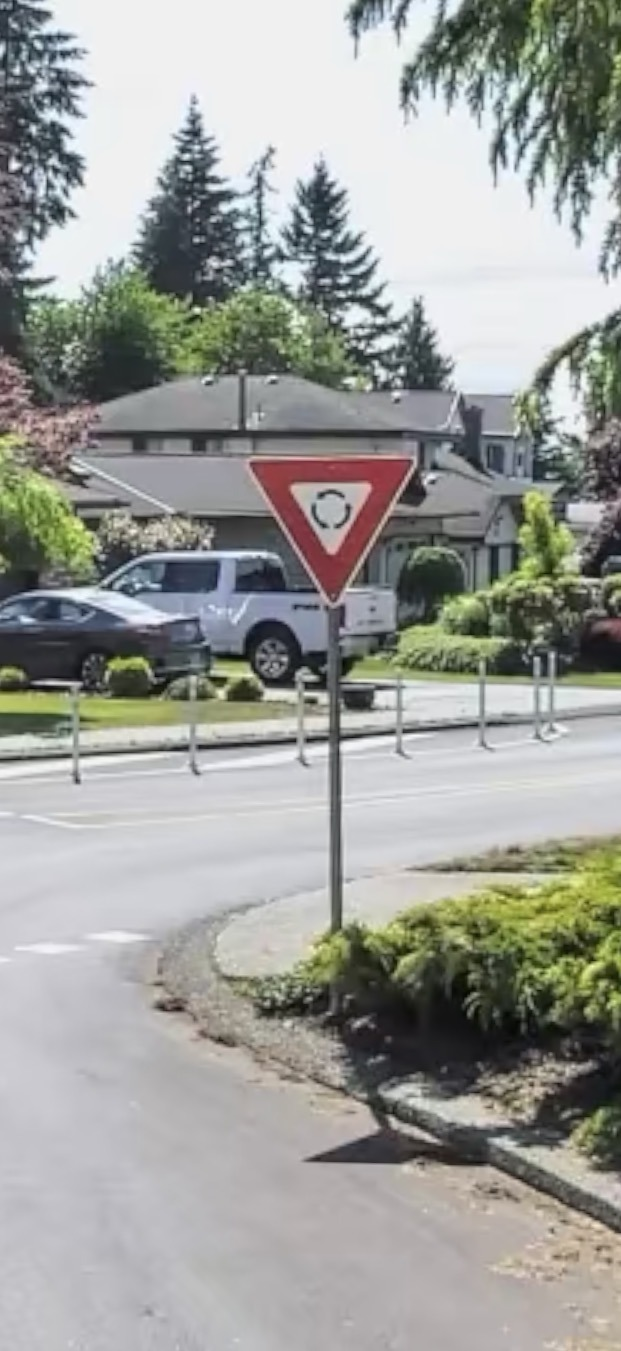yield: (220, 374, 450, 668)
